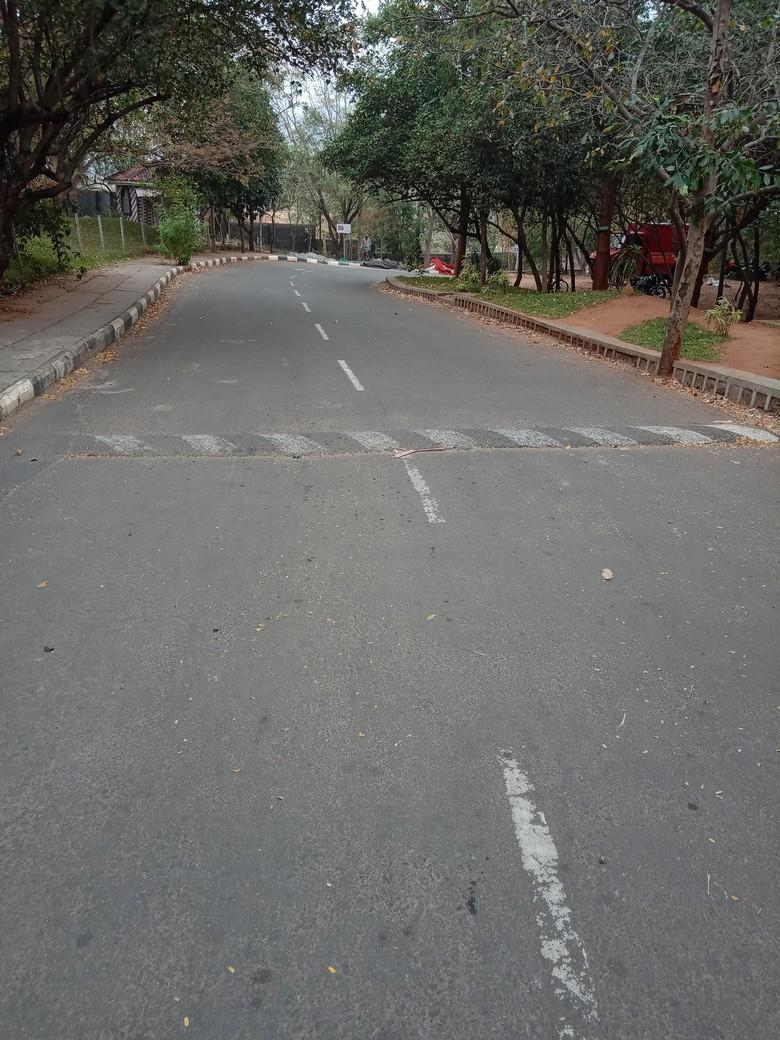Bump: (0, 418, 758, 458)
